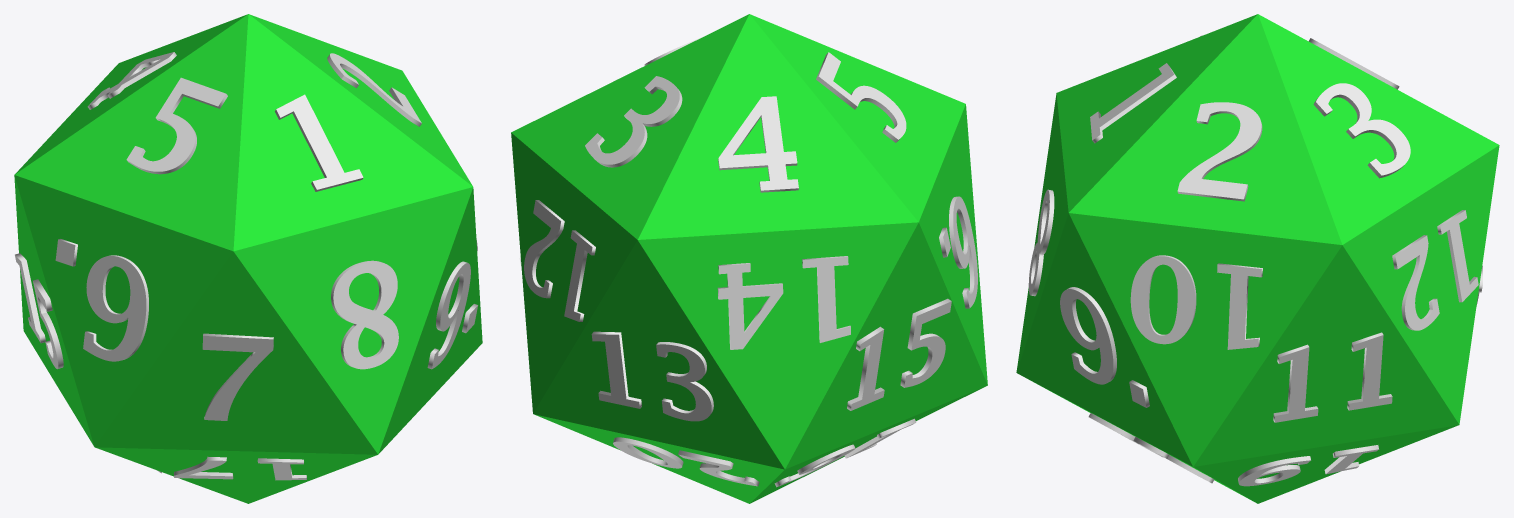
File: countDownDie.glb
3 views of the same model, side by side, from view 1: azimuth 30°, elevation 25°; view 2: azimuth 150°, elevation 25°; view 3: azimuth 270°, elevation 25° (orthographic).
Parts seen in each view (by area): view 1: Icosphere, Text.005, Text.007, Text.004, Text.006, Text, Text.008, Text.014, Text.001, Text.016, Text.003; view 2: Icosphere, Text.013, Text.012, Text.003, Text.014, Text.011, Text.002, Text.005, Text.004, Text.019, Text.015; view 3: Icosphere, Text.009, Text.010, Text.001, Text.011, Text.008, Text.002, Text.018, Text, Text.007, Text.017.
Boxes of the visible parts, x1,y1,x2,y2 form: Icosphere: (14,14,482,503); Text.005: (55,239,148,361); Text.007: (331,260,398,369); Text.004: (126,77,227,174); Text.006: (202,333,273,420); Text: (275,94,363,191); Text.008: (427,261,477,369); Text.014: (15,253,63,369); Text.001: (327,53,421,126); Text.016: (174,456,306,480); Text.003: (87,52,176,109); Icosphere: (511,14,987,503); Text.013: (717,256,850,349); Text.012: (591,331,713,421); Text.003: (718,96,798,192); Text.014: (847,298,951,410); Text.011: (524,200,595,321); Text.002: (585,76,682,167); Text.005: (939,196,977,308); Text.004: (816,52,906,142); Text.019: (613,437,759,486); Text.015: (774,418,916,487); Icosphere: (1016,14,1499,503); Text.009: (1130,255,1262,349); Text.010: (1273,332,1392,422); Text.001: (1177,102,1262,201); Text.011: (1392,210,1478,330); Text.008: (1060,287,1149,407); Text.002: (1313,83,1410,178); Text.018: (1238,445,1378,486); Text: (1090,63,1176,143); Text.007: (1028,189,1054,296); Text.017: (1088,413,1214,483).
Size of the model in its own units: 1.73 by 2 by 1.79.
